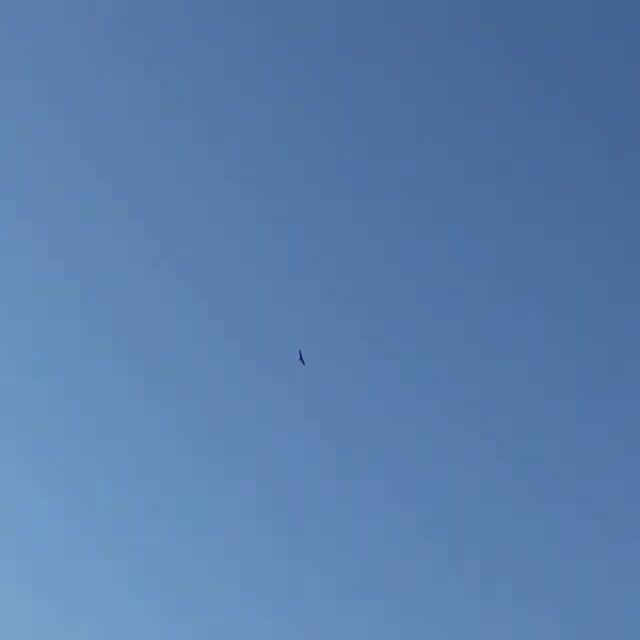bird: (287, 343, 313, 368)
